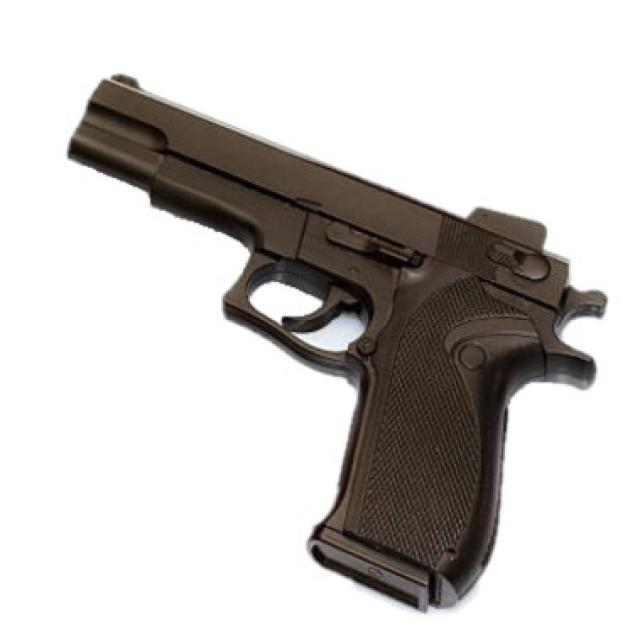pistol: (59, 65, 610, 617)
